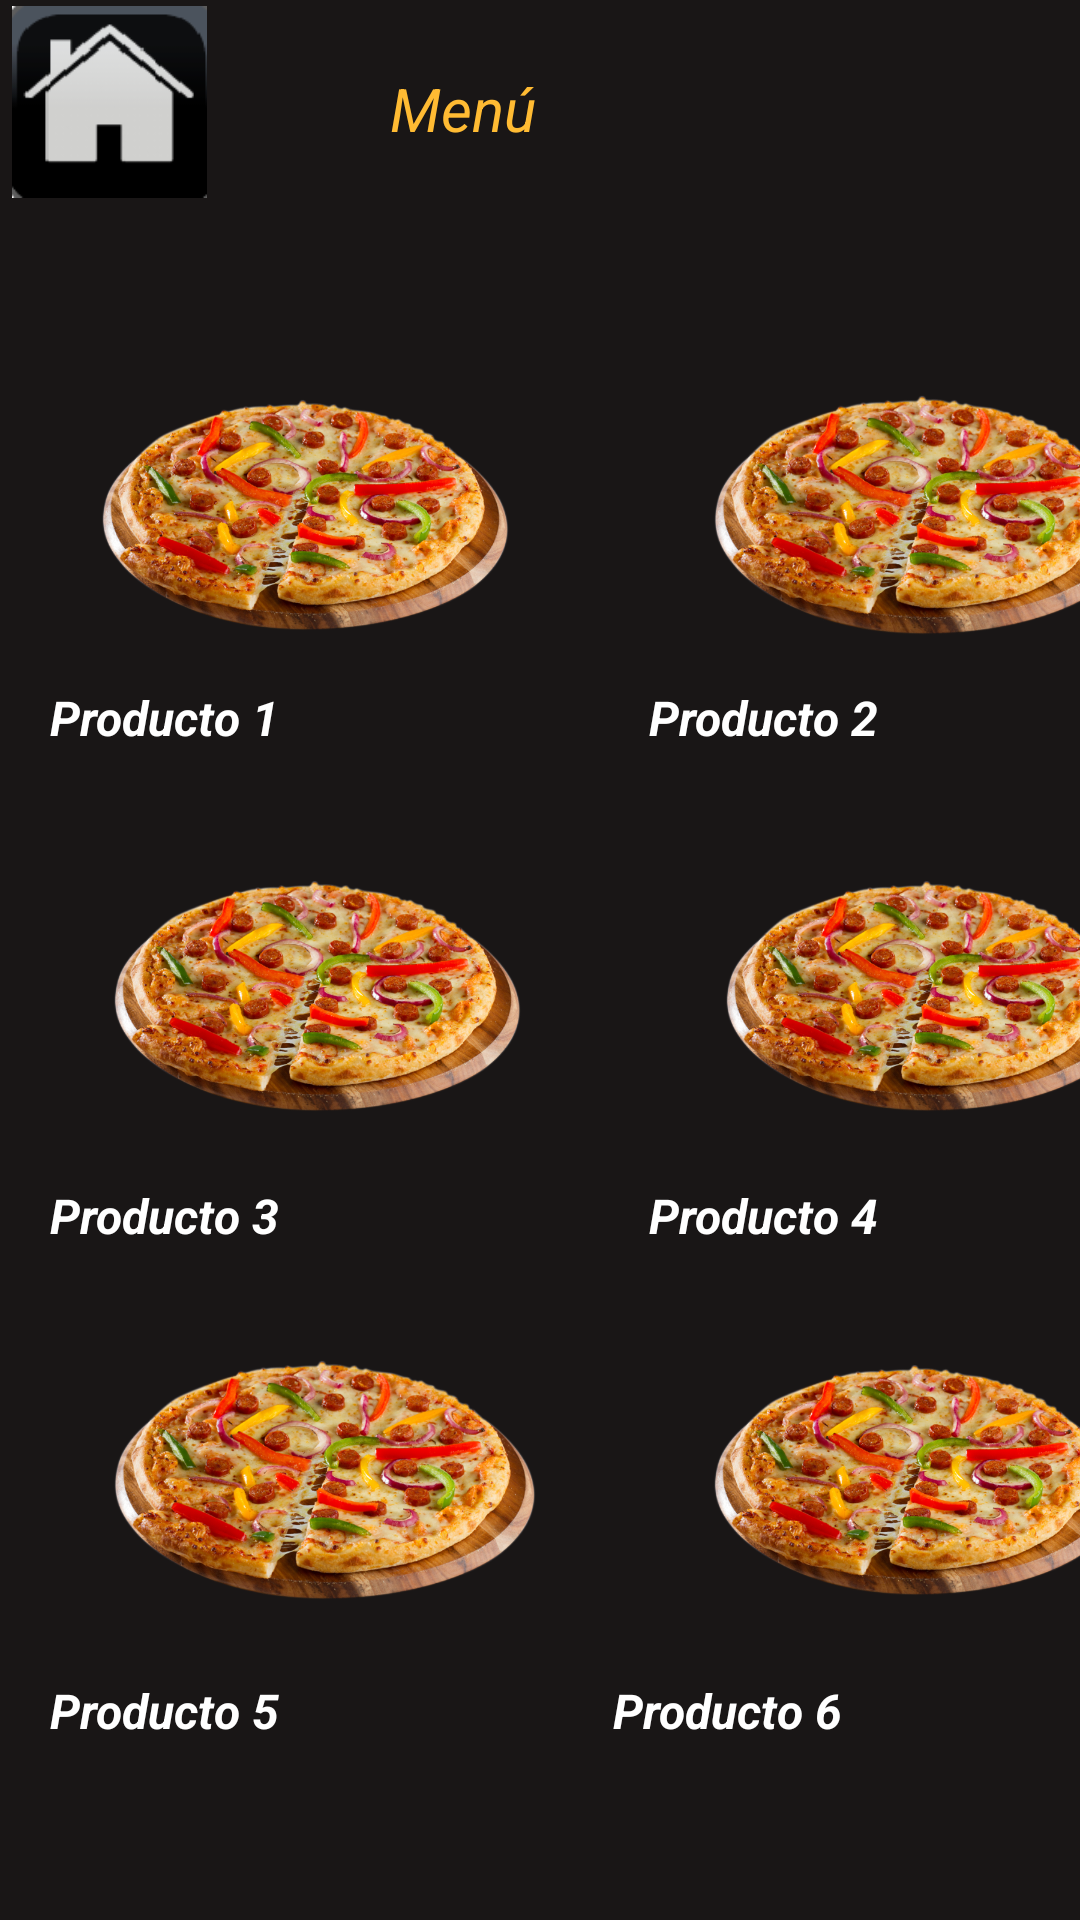

Where icons sit on this 1080 x 1920 app screen, as (x1, y1, x2, y2):
inicio: (12, 6, 207, 198)
